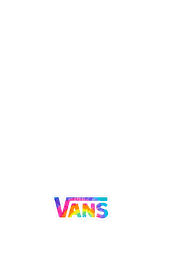vans: (55, 196, 109, 219)
